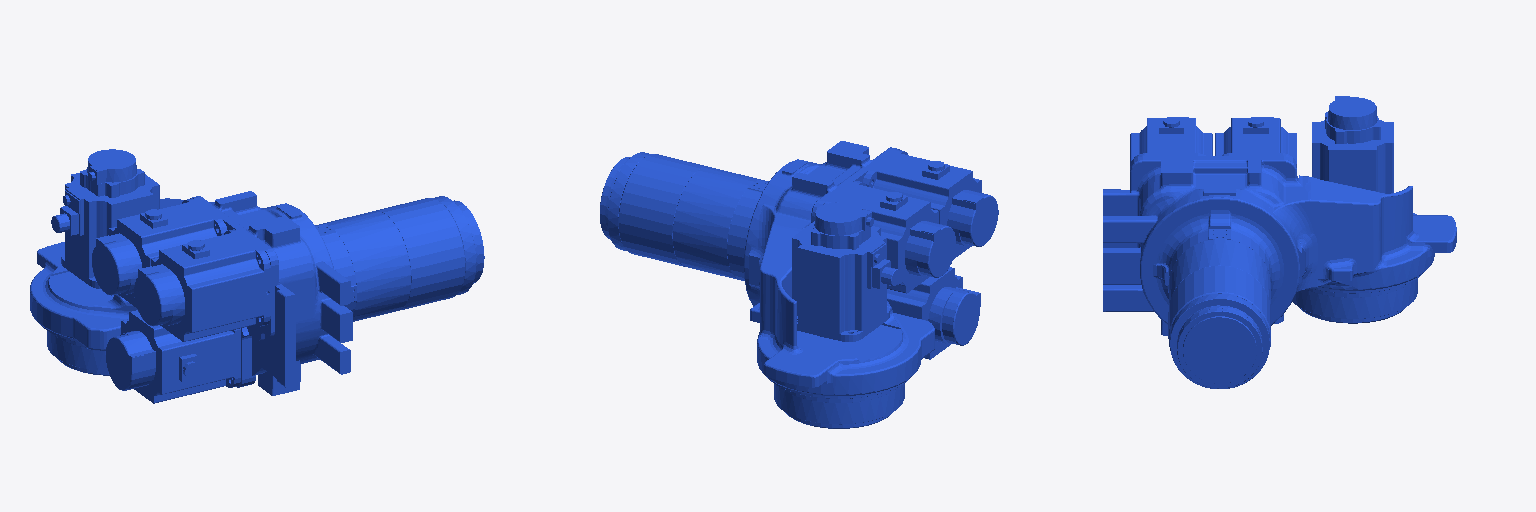
Rendered from elbow.obj.
3 views of the same model, side by side, from view 1: azimuth 30°, elevation 25°; view 2: azimuth 150°, elevation 25°; view 3: azimuth 270°, elevation 25° (orthographic).
Bounding box in the file's own units: 653 × 336 × 560.